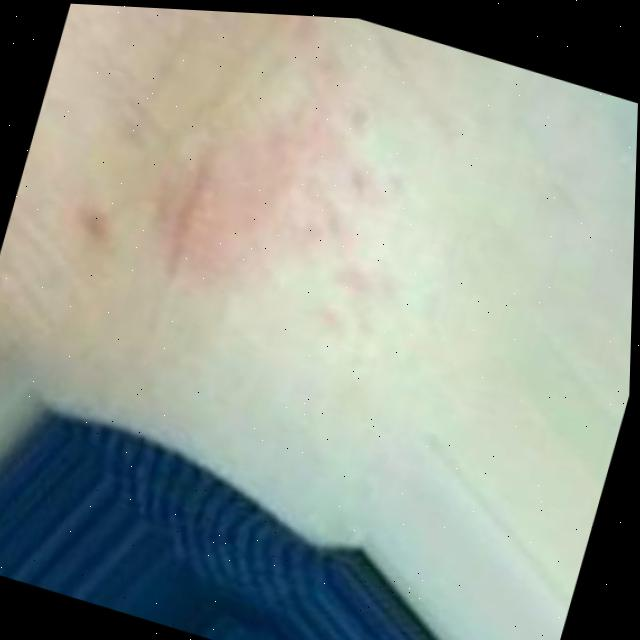Shingles: (149, 34, 402, 335)
